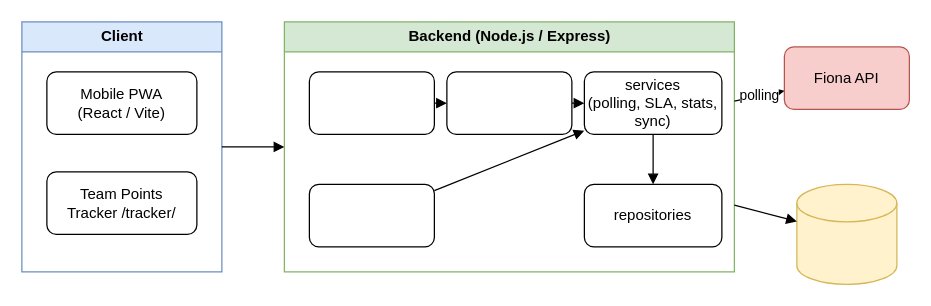
The diagram is 931 pixels wide and 306 high, and some of its shapes have lost their labels. Each missing label, with the centre of its shape:
CLI sync:closed: [371,215]
controllers: [509,102]
routes + middleware (auth): [371,102]
SQLite: [846,233]
